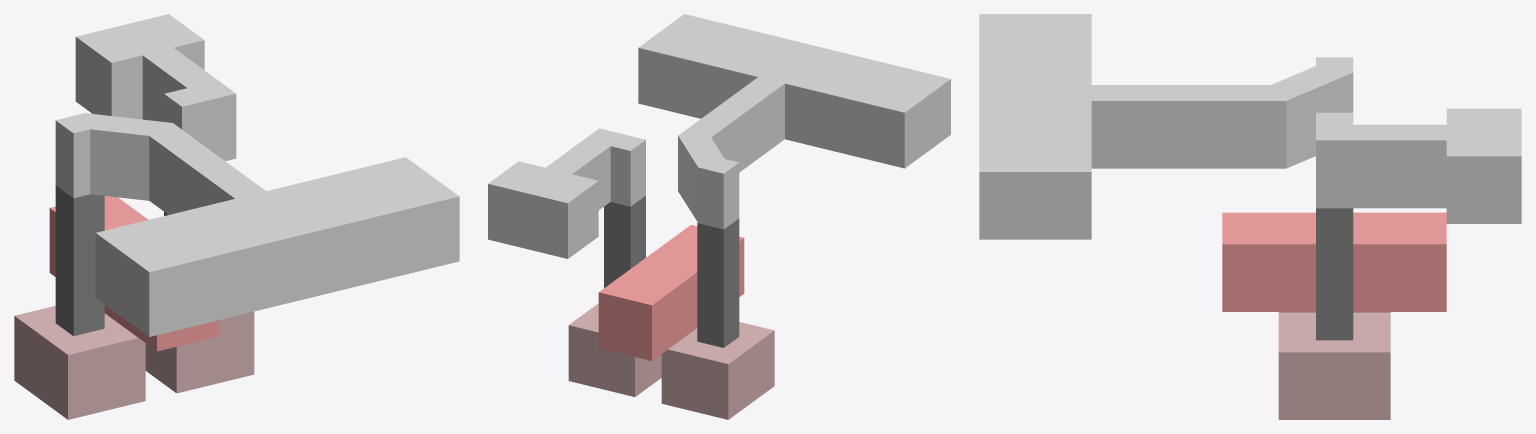
Rendered from board.glb.
3 renders of one model, left to right at view 1: azimuth 30°, elevation 25°; view 2: azimuth 150°, elevation 25°; view 3: azimuth 270°, elevation 25°, orthographic. The views are drawn at different scales.
Visible parts, largest first — view 1: Copper_Net3_Contour0 (×3), Copper_Net2_Contour0 (×2), Copper_Net1_Contour0; view 2: Copper_Net3_Contour0 (×3), Copper_Net2_Contour0 (×3), Copper_Net1_Contour0; view 3: Copper_Net3_Contour0, Copper_Net2_Contour0 (×3), Copper_Net1_Contour0.
Boxes of the visible parts, left/top/right/bottom form: Copper_Net3_Contour0 (×3): left=14, top=113, right=459, bottom=419; Copper_Net2_Contour0 (×2): left=75, top=14, right=254, bottom=393; Copper_Net1_Contour0: left=49, top=196, right=218, bottom=351; Copper_Net3_Contour0 (×3): left=638, top=14, right=950, bottom=419; Copper_Net2_Contour0 (×3): left=488, top=128, right=661, bottom=396; Copper_Net1_Contour0: left=598, top=225, right=744, bottom=360; Copper_Net3_Contour0: left=979, top=14, right=1353, bottom=239; Copper_Net2_Contour0 (×3): left=1278, top=108, right=1521, bottom=419; Copper_Net1_Contour0: left=1222, top=212, right=1446, bottom=311.
Bounding box in the file's own units: 2e-06 × 1.65e-06 × 2.9e-06.
